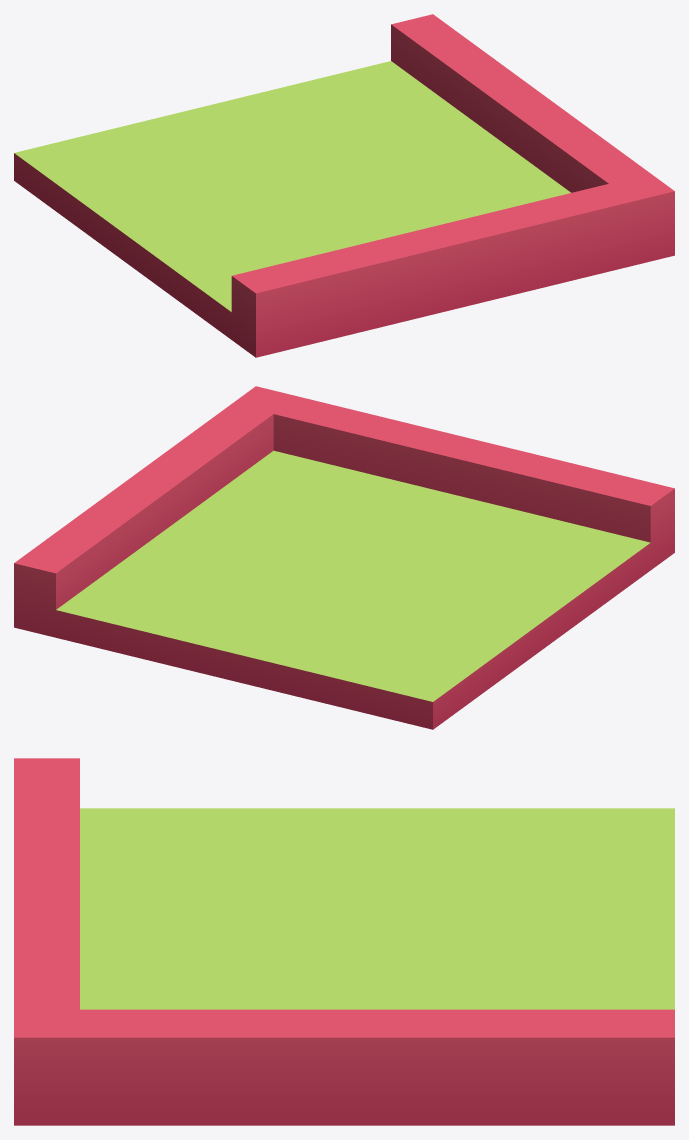
File: corner.gltf
3 renders of one model, top to bottom at view 1: azimuth 30°, elevation 25°; view 2: azimuth 150°, elevation 25°; view 3: azimuth 270°, elevation 25°, orthographic. The views are drawn at different scales.
Visible parts, largest first — view 1: corner; view 2: corner; view 3: corner.
Boxes of the visible parts, bbox=[...] form: corner: bbox=[14, 14, 674, 357]; corner: bbox=[14, 386, 674, 729]; corner: bbox=[14, 758, 674, 1125].
Size of the model in its own units: 0.9999 by 0.1467 by 0.9999.
1 material, 1 textured.
